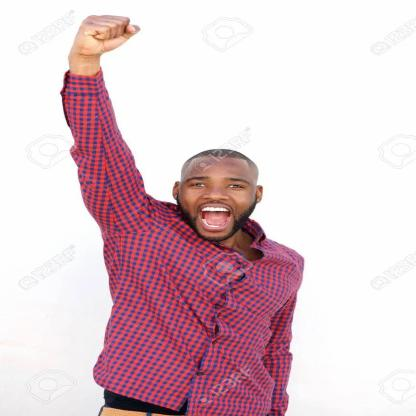fist: (71, 14, 142, 52)
